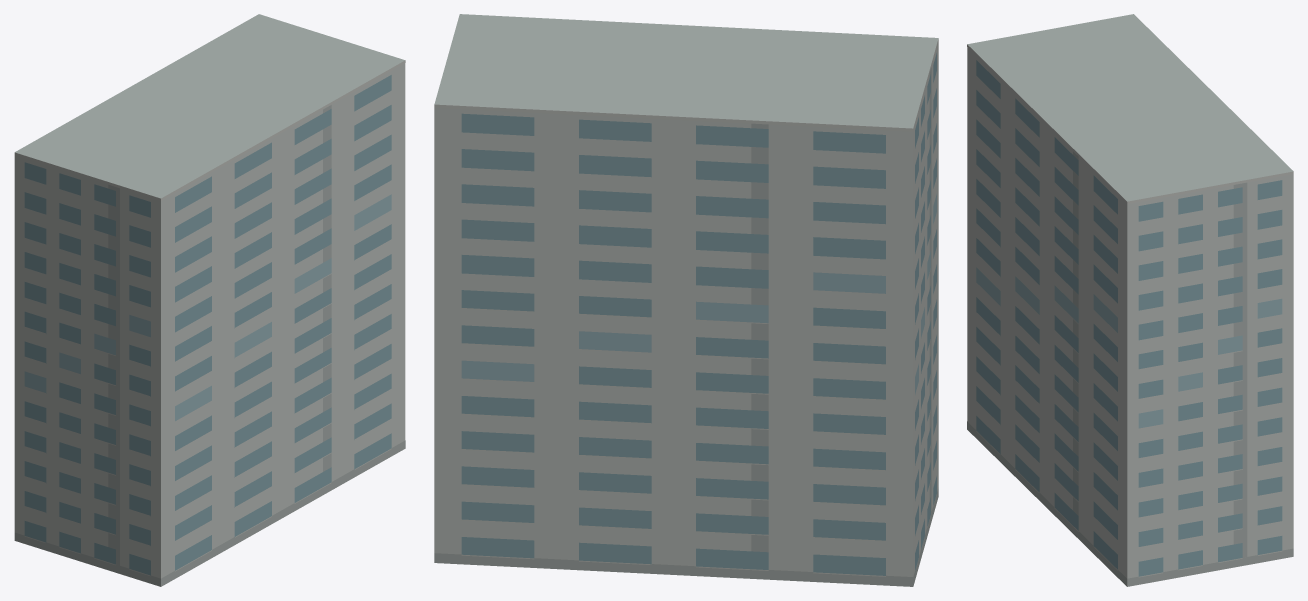
Rendered from residential-92d4a432-8e44-47bf-822b-bfd40c19226f.glb.
3 views of the same model, side by side, from view 1: azimuth 30°, elevation 25°; view 2: azimuth 150°, elevation 25°; view 3: azimuth 270°, elevation 25° (orthographic). The views are drawn at different scales.
Visible parts, largest first — view 1: residential-92d4a432-8e44-47bf-822b-bfd40c19226f.tmp; view 2: residential-92d4a432-8e44-47bf-822b-bfd40c19226f.tmp; view 3: residential-92d4a432-8e44-47bf-822b-bfd40c19226f.tmp.
Boxes of the visible parts, bbox=[...] form: residential-92d4a432-8e44-47bf-822b-bfd40c19226f.tmp: bbox=[14, 14, 405, 586]; residential-92d4a432-8e44-47bf-822b-bfd40c19226f.tmp: bbox=[434, 14, 938, 586]; residential-92d4a432-8e44-47bf-822b-bfd40c19226f.tmp: bbox=[967, 14, 1293, 586].
Bounding box in the file's own units: 36.56 × 35 × 26.89.
